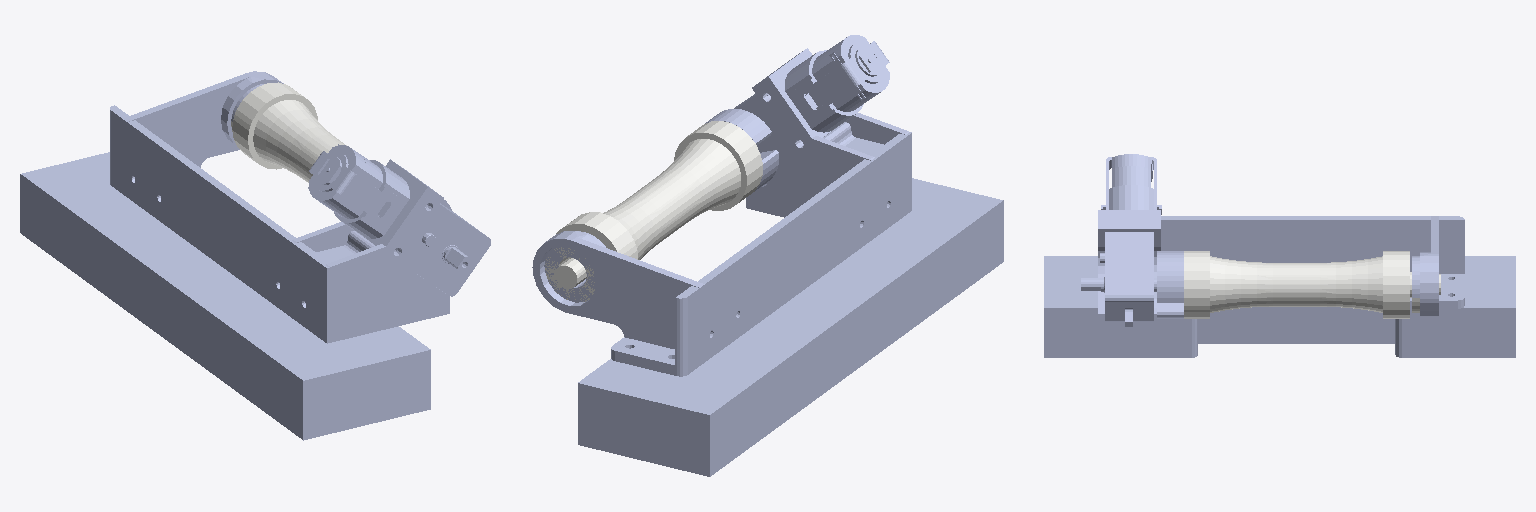
The robot description file, URDF, robot "DRIBBLERROS1":
<?xml version="1.0" encoding="utf-8"?>
<!-- This URDF was automatically created by SolidWorks to URDF Exporter! Originally created by [author] ([email redacted]) 
     Commit Version: 1.6.0-1-g15f4949  Build Version: 1.6.7594.29634
     For more information, please see http://wiki.ros.org/sw_urdf_exporter -->
<robot
  name="DRIBBLERROS1">
  <link
    name="LINK 1">
    <inertial>
      <origin
        xyz="-0.039108972179808 -0.0156873981640452 -0.0212134115768035"
        rpy="0 0 0" />
      <mass
        value="0.223014153118537" />
      <inertia
        ixx="0.000564960837143496"
        ixy="7.32257824978652E-06"
        ixz="1.51072835726652E-07"
        iyy="4.51815305981682E-05"
        iyz="1.20191559903202E-06"
        izz="0.000588224398915661" />
    </inertial>
    <visual>
      <origin
        xyz="0 0 0"
        rpy="0 0 0" />
      <geometry>
        <mesh
          filename="package://DRIBBLERROS1/meshes/LINK 1.STL" />
      </geometry>
      <material
        name="">
        <color
          rgba="0.792156862745098 0.819607843137255 0.933333333333333 1" />
      </material>
    </visual>
    <collision>
      <origin
        xyz="0 0 0"
        rpy="0 0 0" />
      <geometry>
        <mesh
          filename="package://DRIBBLERROS1/meshes/LINK 1.STL" />
      </geometry>
    </collision>
  </link>
  <link
    name="LINK2">
    <inertial>
      <origin
        xyz="-0.00998289883991357 0.071758195087929 -0.0606843614609579"
        rpy="0 0 0" />
      <mass
        value="0.0304506859423776" />
      <inertia
        ixx="2.50454457770391E-05"
        ixy="1.13291448861971E-21"
        ixz="-1.40901335731198E-36"
        iyy="1.77936768173121E-06"
        iyz="3.06351325452326E-19"
        izz="2.50454457770391E-05" />
    </inertial>
    <visual>
      <origin
        xyz="0 0 0"
        rpy="0 0 0" />
      <geometry>
        <mesh
          filename="package://DRIBBLERROS1/meshes/LINK2.STL" />
      </geometry>
      <material
        name="">
        <color
          rgba="0.964705882352941 0.964705882352941 0.952941176470588 1" />
      </material>
    </visual>
    <collision>
      <origin
        xyz="0 0 0"
        rpy="0 0 0" />
      <geometry>
        <mesh
          filename="package://DRIBBLERROS1/meshes/LINK2.STL" />
      </geometry>
    </collision>
  </link>
  <joint
    name="JOINT1"
    type="revolute">
    <origin
      xyz="0.0099829 -0.067124 0.060684"
      rpy="0 0 0" />
    <parent
      link="LINK 1" />
    <child
      link="LINK2" />
    <axis
      xyz="0 0 0" />
    <limit
      lower="0"
      upper="0"
      effort="0"
      velocity="0" />
  </joint>
</robot>

--- Facts derived from the render (not from the file) ---
The picture shows the robot from 3 angles, left to right: view 1: azimuth 30°, elevation 25°; view 2: azimuth 150°, elevation 25°; view 3: azimuth 270°, elevation 25°; orthographic projection.
Robot: DRIBBLERROS1 — 2 links, 1 joints (1 revolute); root link LINK 1; default pose: every joint at zero.
Visible links, largest first — view 1: LINK 1, LINK2; view 2: LINK 1, LINK2; view 3: LINK 1, LINK2.
Boxes of the visible links, left/top/right/bottom form: LINK 1: left=20, top=71, right=490, bottom=440; LINK2: left=231, top=82, right=346, bottom=182; LINK 1: left=532, top=35, right=1003, bottom=476; LINK2: left=545, top=121, right=762, bottom=301; LINK 1: left=1044, top=154, right=1515, bottom=357; LINK2: left=1184, top=251, right=1440, bottom=318.
Bounding box of the posed robot: 0.0826 × 0.1805 × 0.0812 m (x, y, z).
2 mesh visuals loaded from 2 distinct referenced files (2 binary STL).
